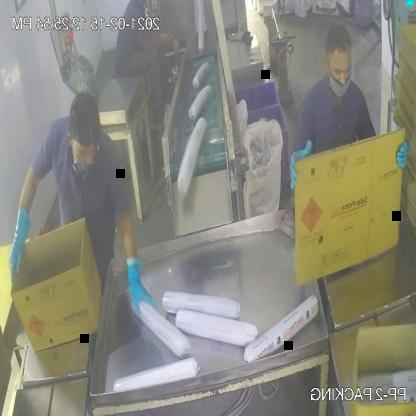glove: (125, 244, 155, 320), (7, 209, 31, 284)
no_glove: (138, 24, 179, 59)
